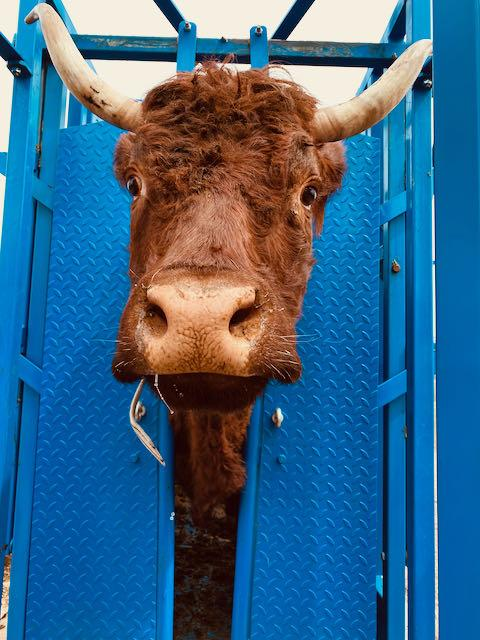muzzles: (107, 264, 312, 414)
